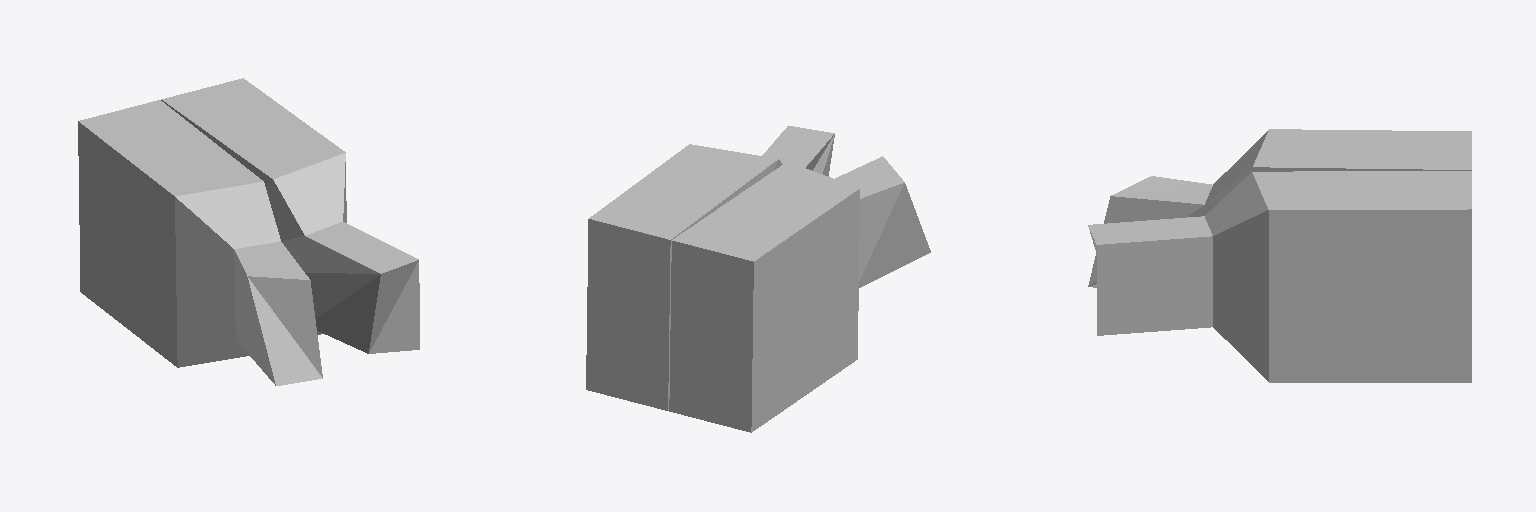
Rendered from column-B-destr_01.obj.
3 views of the same model, side by side, from view 1: azimuth 30°, elevation 25°; view 2: azimuth 150°, elevation 25°; view 3: azimuth 270°, elevation 25° (orthographic).
Visible parts, largest first — view 1: (null); view 2: (null); view 3: (null).
Boxes of the visible parts, x1=… form: (null): x1=78, y1=78, x2=419, y2=385; (null): x1=586, y1=126, x2=930, y2=432; (null): x1=1088, y1=129, x2=1471, y2=382.
Size of the model in its own units: 1.31 by 1.26 by 2.52.